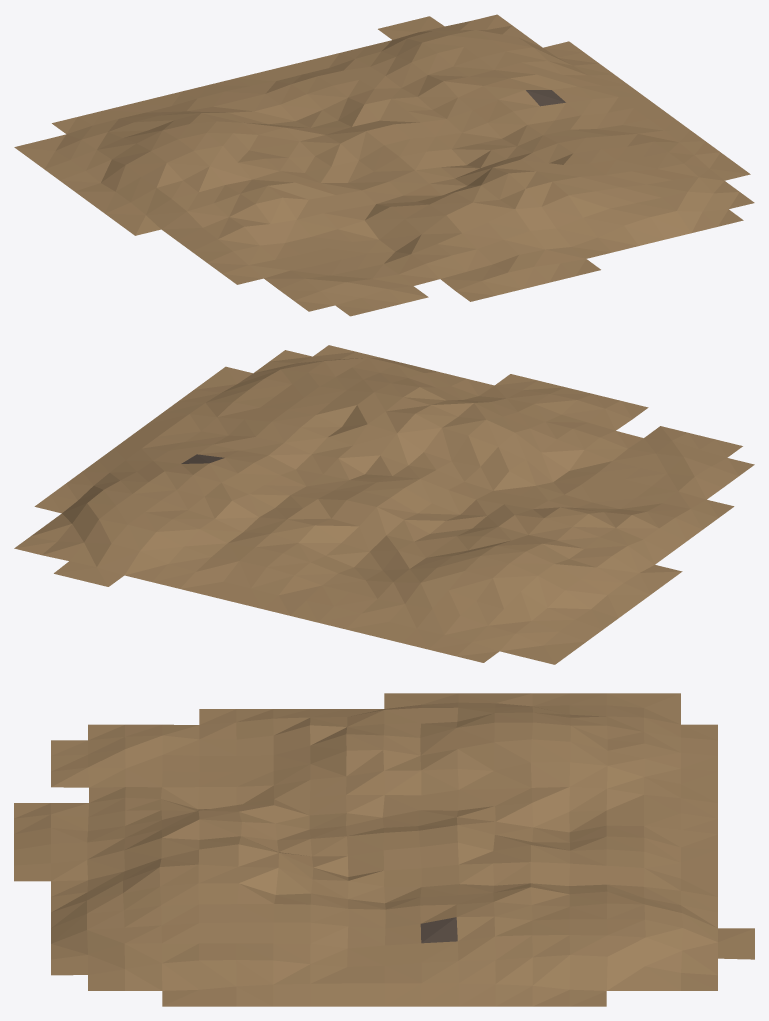
The model's file is SM_Env_GroundMounds_08.fbx.
The picture shows the model from 3 angles, top to bottom: view 1: azimuth 30°, elevation 25°; view 2: azimuth 150°, elevation 25°; view 3: azimuth 270°, elevation 25°; orthographic projection. The views are drawn at different scales.
Visible parts, largest first — view 1: SM_Env_GroundMounds_08; view 2: SM_Env_GroundMounds_08; view 3: SM_Env_GroundMounds_08.
Boxes of the visible parts, x1=… form: SM_Env_GroundMounds_08: x1=14, y1=14, x2=754, y2=316; SM_Env_GroundMounds_08: x1=14, y1=345, x2=754, y2=664; SM_Env_GroundMounds_08: x1=14, y1=693, x2=754, y2=1006.
Bounding box in the file's own units: 0.0814 × 0.00515 × 0.0814.
Materials: 1 (1 with a texture image).
